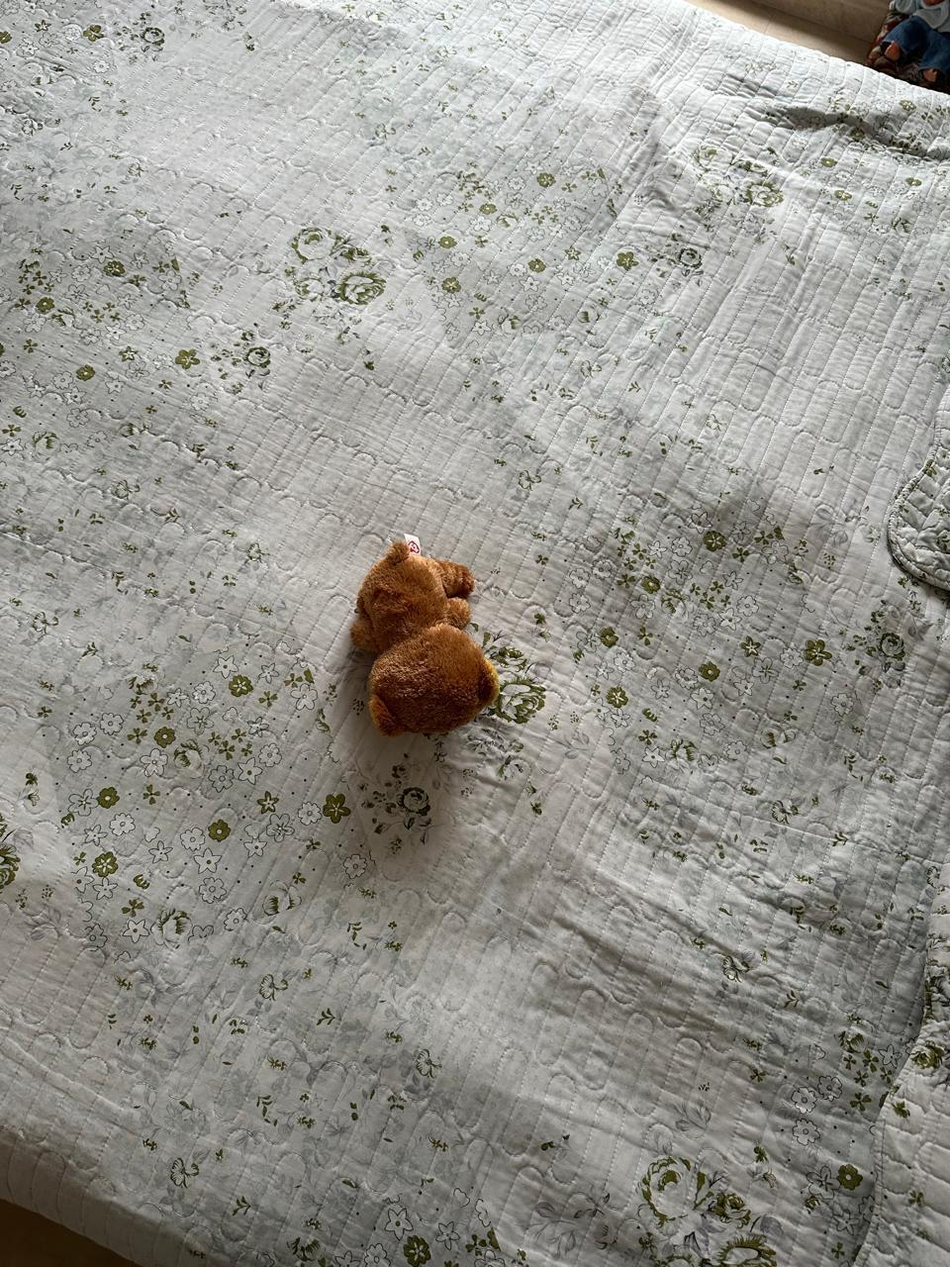peluche_sebastian: (344, 537, 505, 732)
